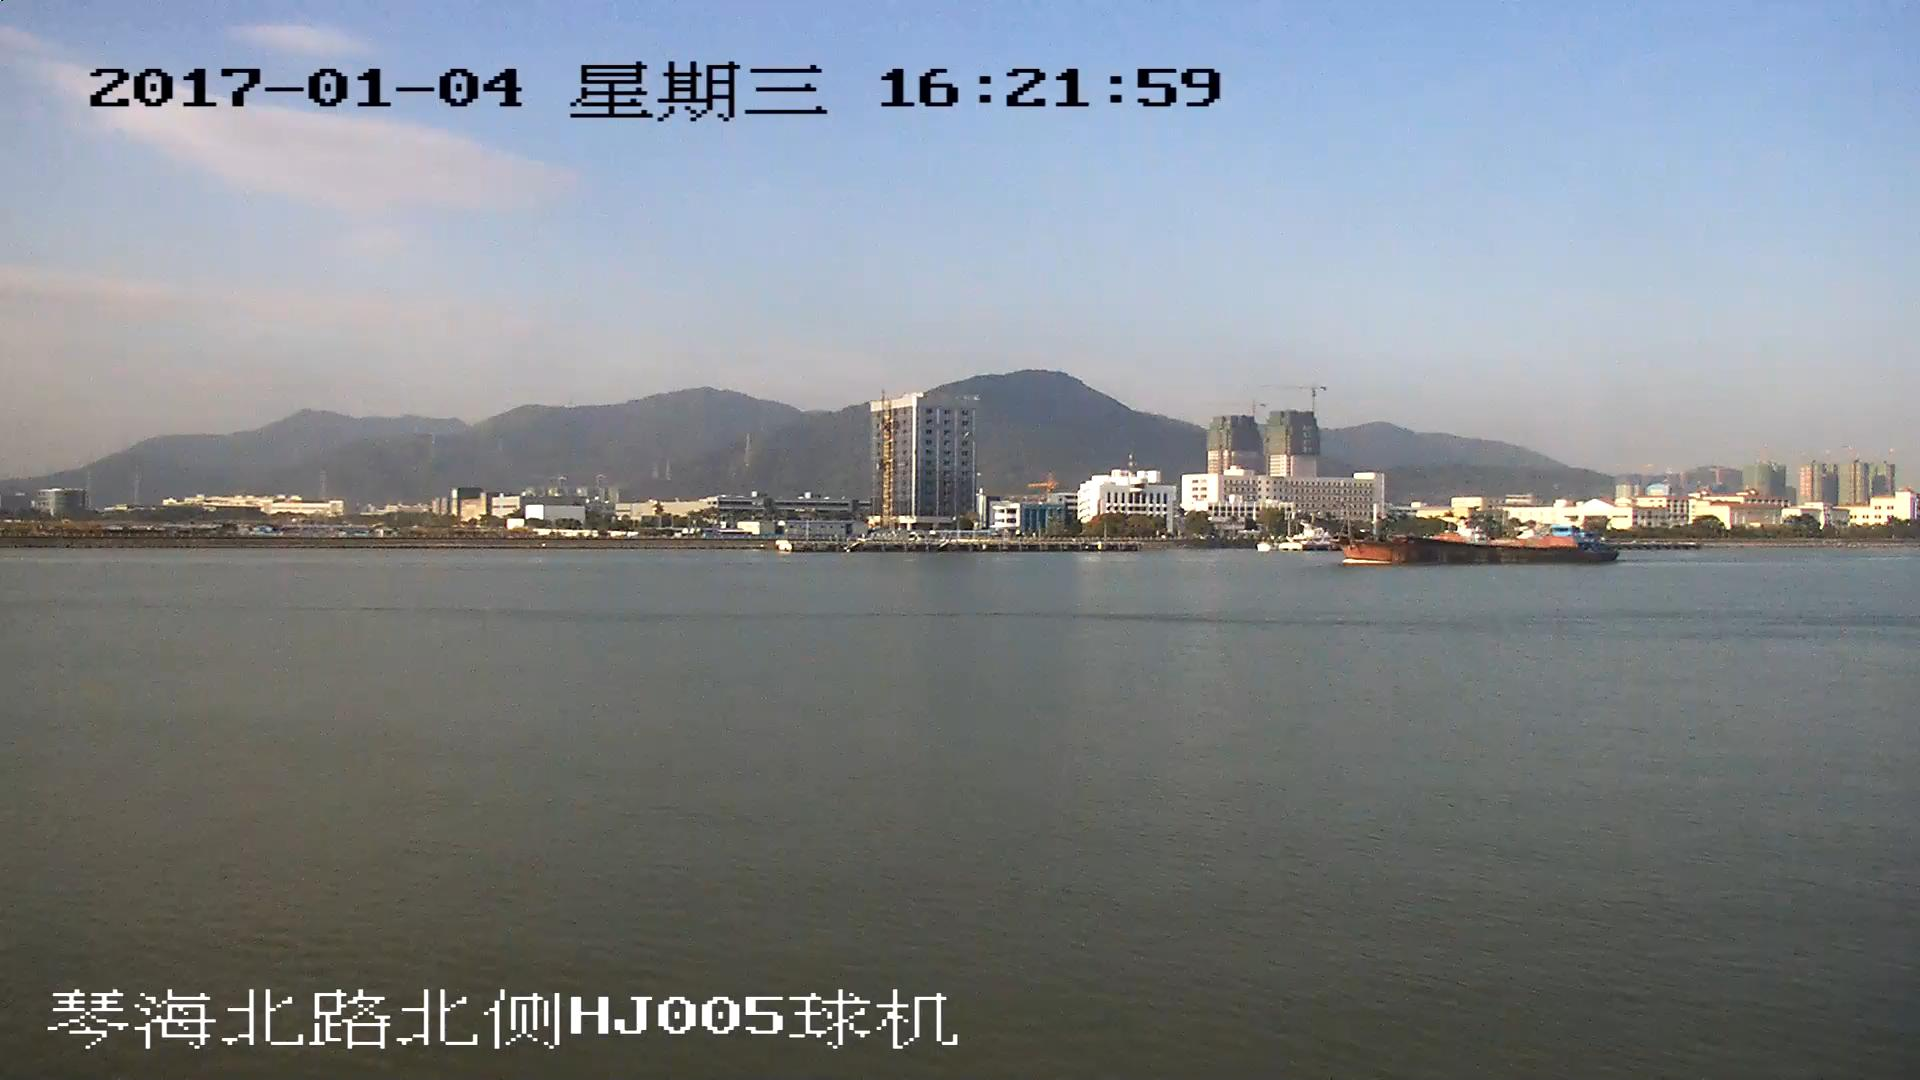bulk cargo carrier: (1312, 515, 1619, 565)
